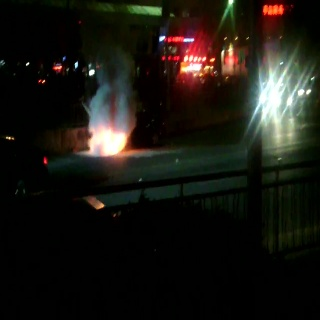fire: (96, 128, 127, 156)
